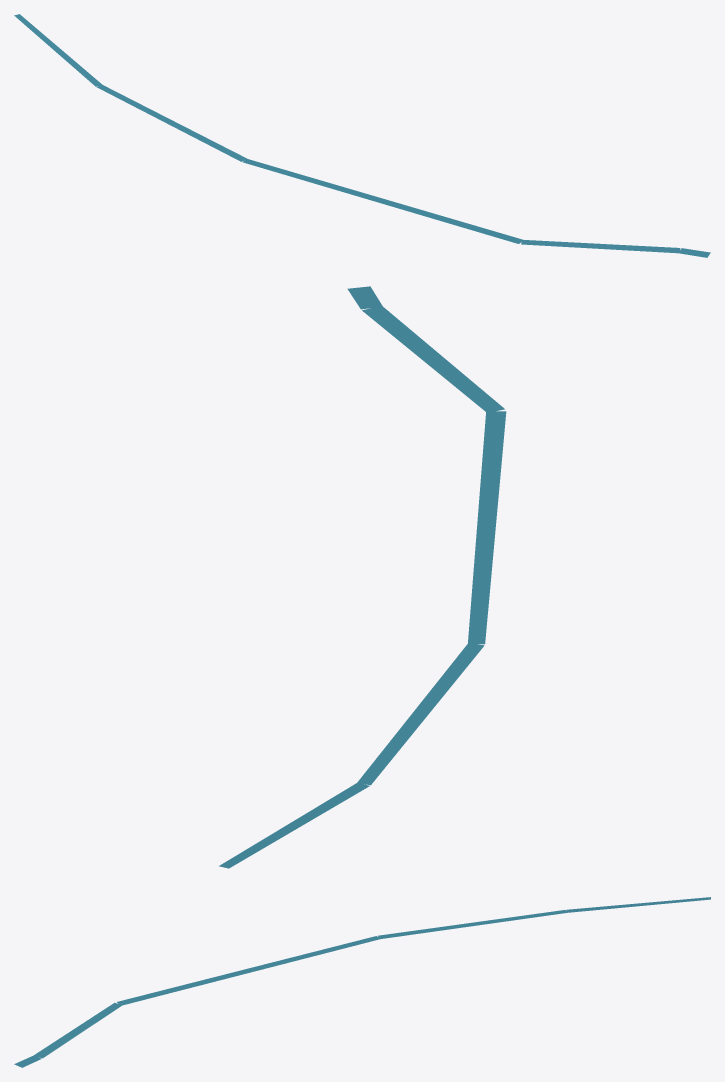
Rendered from ranch_water.glb.
The picture shows the model from 3 angles, top to bottom: view 1: azimuth 30°, elevation 25°; view 2: azimuth 150°, elevation 25°; view 3: azimuth 270°, elevation 25°; orthographic projection. The views are drawn at different scales.
Visible parts, largest first — view 1: ranch_stream; view 2: ranch_stream; view 3: ranch_stream.
Boxes of the visible parts, x1=… form: ranch_stream: x1=14, y1=14, x2=710, y2=257; ranch_stream: x1=219, y1=286, x2=506, y2=868; ranch_stream: x1=14, y1=897, x2=710, y2=1067.
Size of the model in its own units: 114 by 12.1 by 241.
